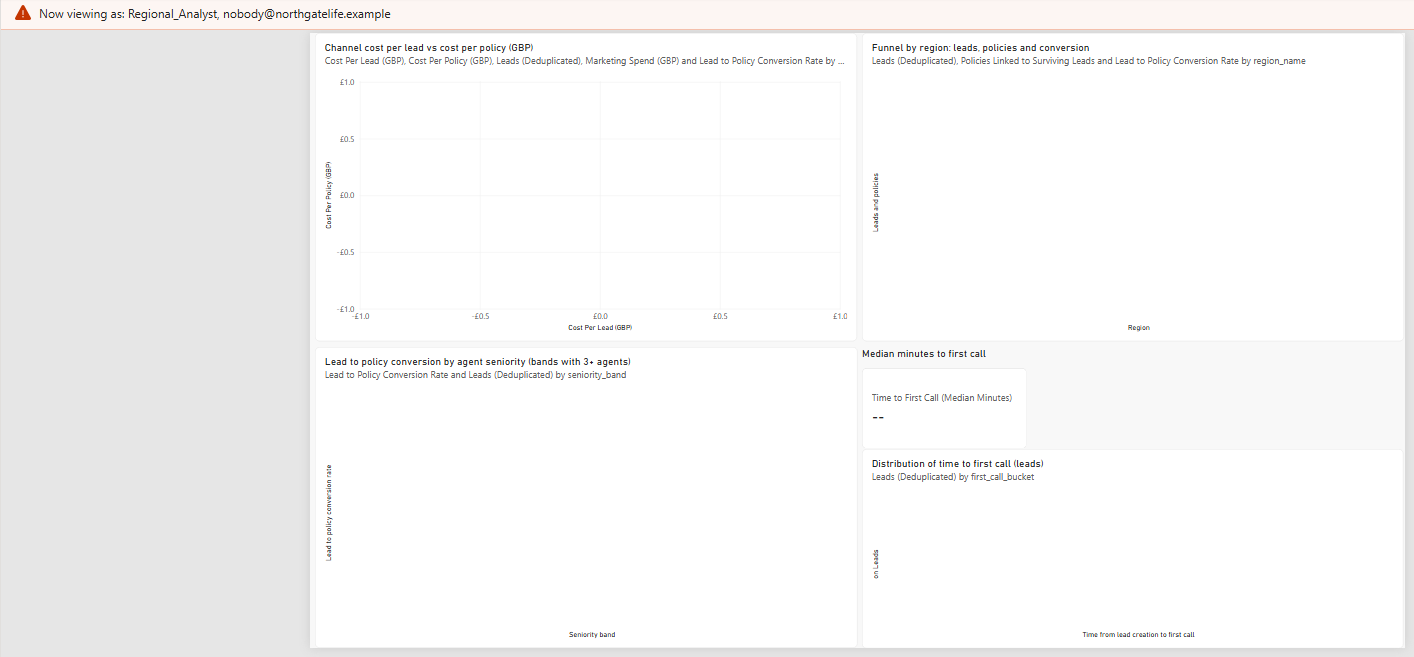

Layout of this report page (visuals, bound fields, positions):
{"tool":"powerbi","page":{"name":"Northgate Life: funnel overview","canvas":[1920,1080],"ordinal":0},"visuals":[{"type":"scatterChart","title":"Channel cost per lead vs cost per policy (GBP)","fields":{"Category":["dim_channel.channel_name"],"Size":["Key Measures.Leads (Deduplicated)"],"X":["Key Measures.Cost Per Lead (GBP)"],"Y":["Key Measures.Cost Per Policy (GBP)"]},"box":[9.4,0,951.1,540.8],"z":0},{"type":"lineClusteredColumnComboChart","title":"Funnel by region: leads, policies and conversion","fields":{"Category":["dim_region.region_name"],"Y":["Key Measures.Leads (Deduplicated)","Key Measures.Policies Linked to Surviving Leads"],"Y2":["Key Measures.Lead to Policy Conversion Rate"]},"box":[968.4,0,951.1,540.8],"z":1000},{"type":"clusteredColumnChart","title":"Lead to policy conversion by agent seniority (bands with 3+ agents)","fields":{"Category":["dim_agent_seniority.seniority_band"],"Y":["Key Measures.Lead to Policy Conversion Rate"]},"box":[8.8,551.1,952.1,528.1],"z":2000},{"type":"clusteredColumnChart","title":"Distribution of time to first call (leads)","fields":{"Category":["fact_lead_funnel.first_call_bucket"],"Y":["Key Measures.Leads (Deduplicated)"]},"box":[967.9,729.5,950.3,349.7],"z":3000},{"type":"cardVisual","title":"Median minutes to first call","fields":{"Data":["Key Measures.Time to First Call (Median Minutes)"]},"box":[967.9,551.1,289.7,178.4],"z":4000}]}

Visuals, with their boxes on the page's 1920x1080 design canvas (x1, y1, x2, y2). These are canvas units, not pixel positions in the 1414x657 screenshot, which may show the page scaled, cropped or inside an application window:
"Channel cost per lead vs cost per policy (GBP)" scatterChart: bbox(9, 0, 960, 541)
"Funnel by region: leads, policies and conversion" lineClusteredColumnComboChart: bbox(968, 0, 1920, 541)
"Lead to policy conversion by agent seniority (bands with 3+ agents)" clusteredColumnChart: bbox(9, 551, 961, 1079)
"Distribution of time to first call (leads)" clusteredColumnChart: bbox(968, 730, 1918, 1079)
"Median minutes to first call" cardVisual: bbox(968, 551, 1258, 730)
